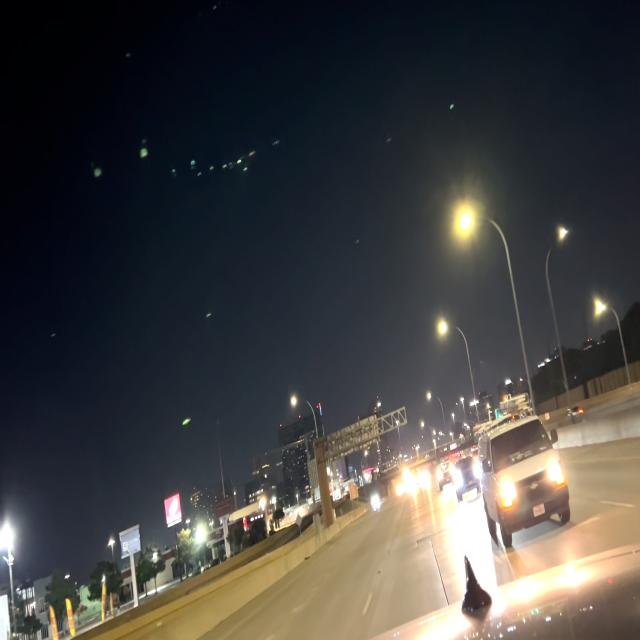back-of-sign: (326, 416, 381, 461)
